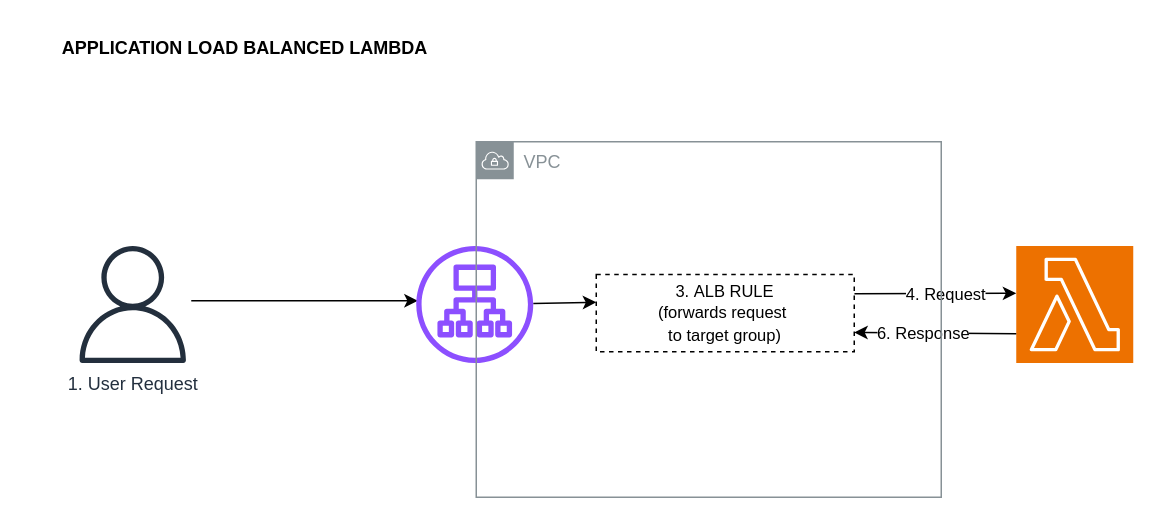
Image size: 1170x524. Some labels were removed from this diagram. The centre of each missing label's shape, as x and y in pixels:
2. Application Load Balancer: point 474,303
5. Target Group with Lambda Function: point 1074,303
